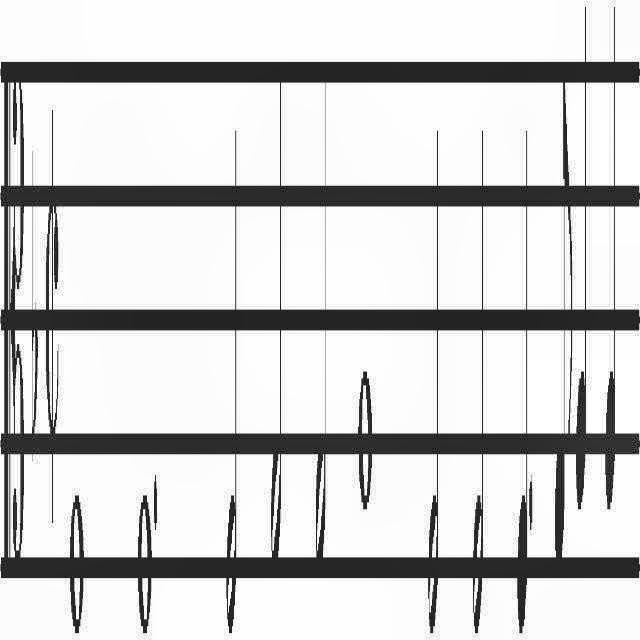Bemol: (29, 138, 39, 476)
Eighth-note: (554, 37, 574, 593)
Full-note: (137, 460, 153, 640), (358, 355, 374, 525), (70, 482, 84, 634)
Half-note: (270, 64, 284, 604), (315, 58, 327, 588), (428, 105, 440, 635), (226, 111, 238, 635), (472, 106, 484, 630)
Quarter-note: (603, 1, 617, 552), (516, 96, 530, 636), (576, 1, 588, 536)
